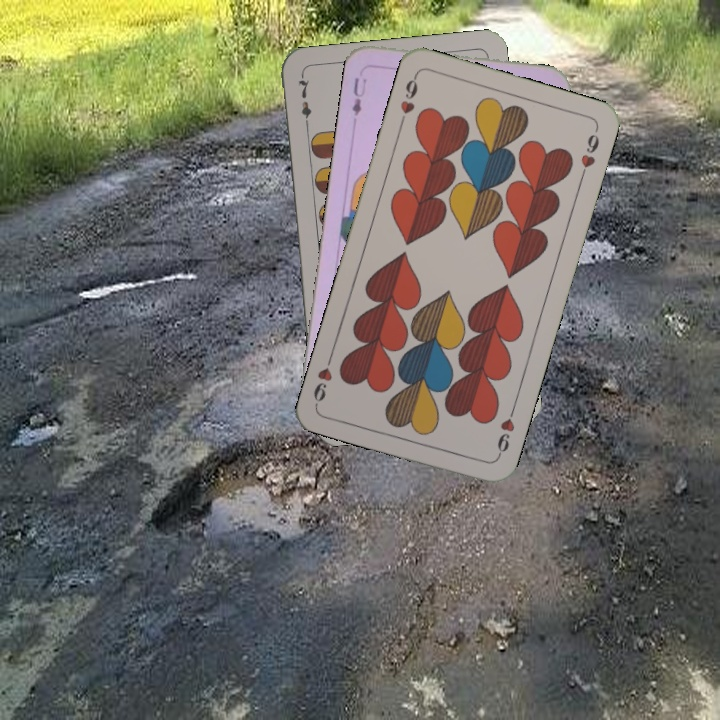E7: (294, 72, 314, 131)
EU: (348, 73, 369, 119)
H9: (492, 403, 518, 461), (396, 71, 421, 129)
